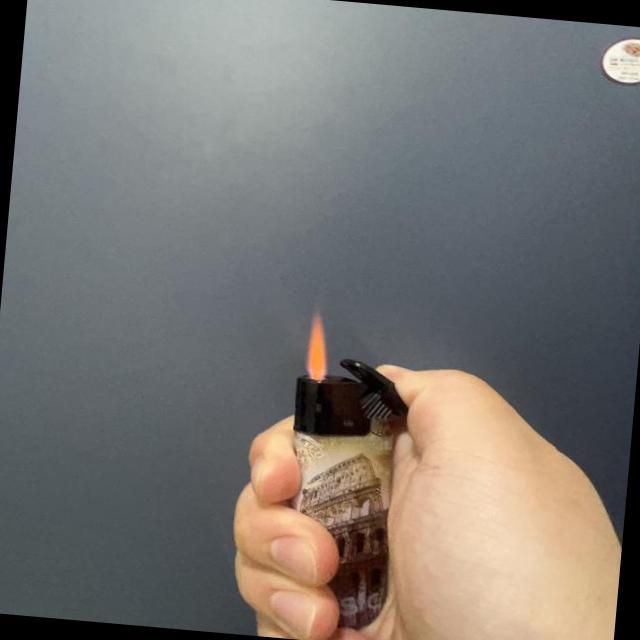Fire: (302, 308, 334, 382)
